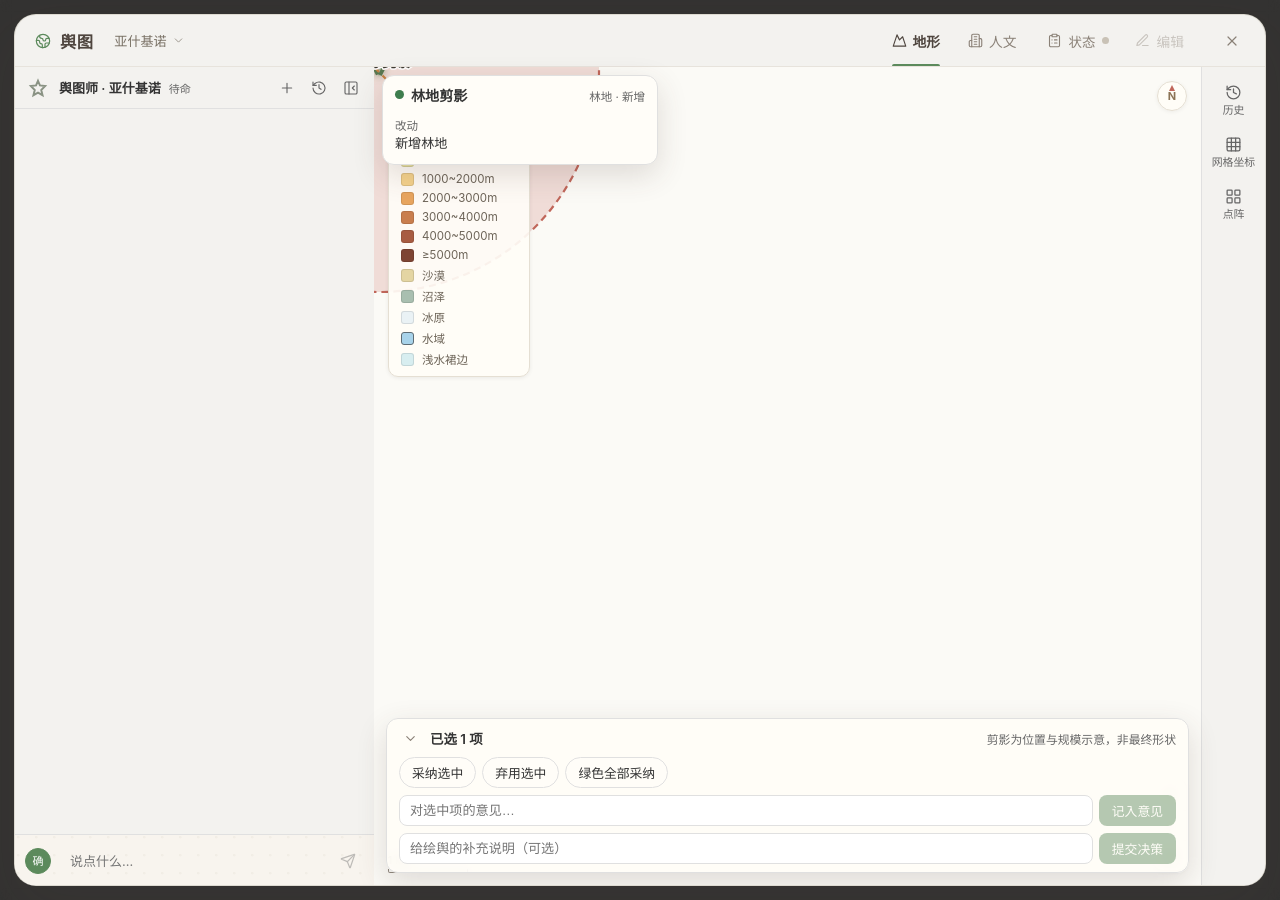
Test case: MapViewerDialog › 剪影锚定卡：网格开启且锚点可用时自动带一行格号；网格关闭时不显示该行
The image size is (1280, 900).
Expected: the element with class "map-viewer__sketch-pop-body" does not show "格位"
# 开启网格：REAL_BUNDLE 没有正式要素，使用空图 100km 初始观察窗。
Step 1. Click the button with class "map-viewer__status-toggle" showing "网格坐标" → click(1234, 152), box [1207,127,1260,177]
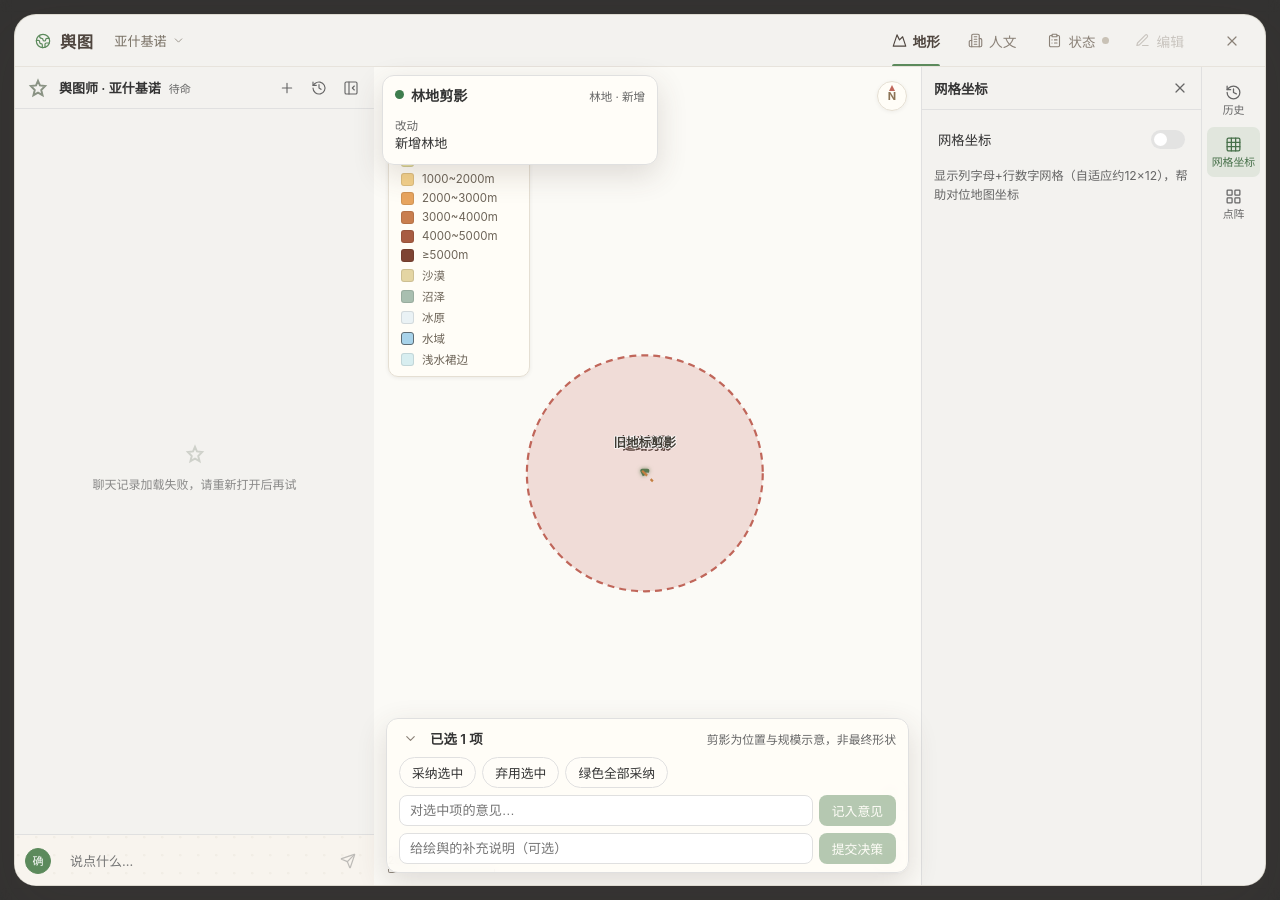
Step 2. Click the switch with class "map-viewer__grid-switch" → click(1062, 140), box [934,122,1189,157]
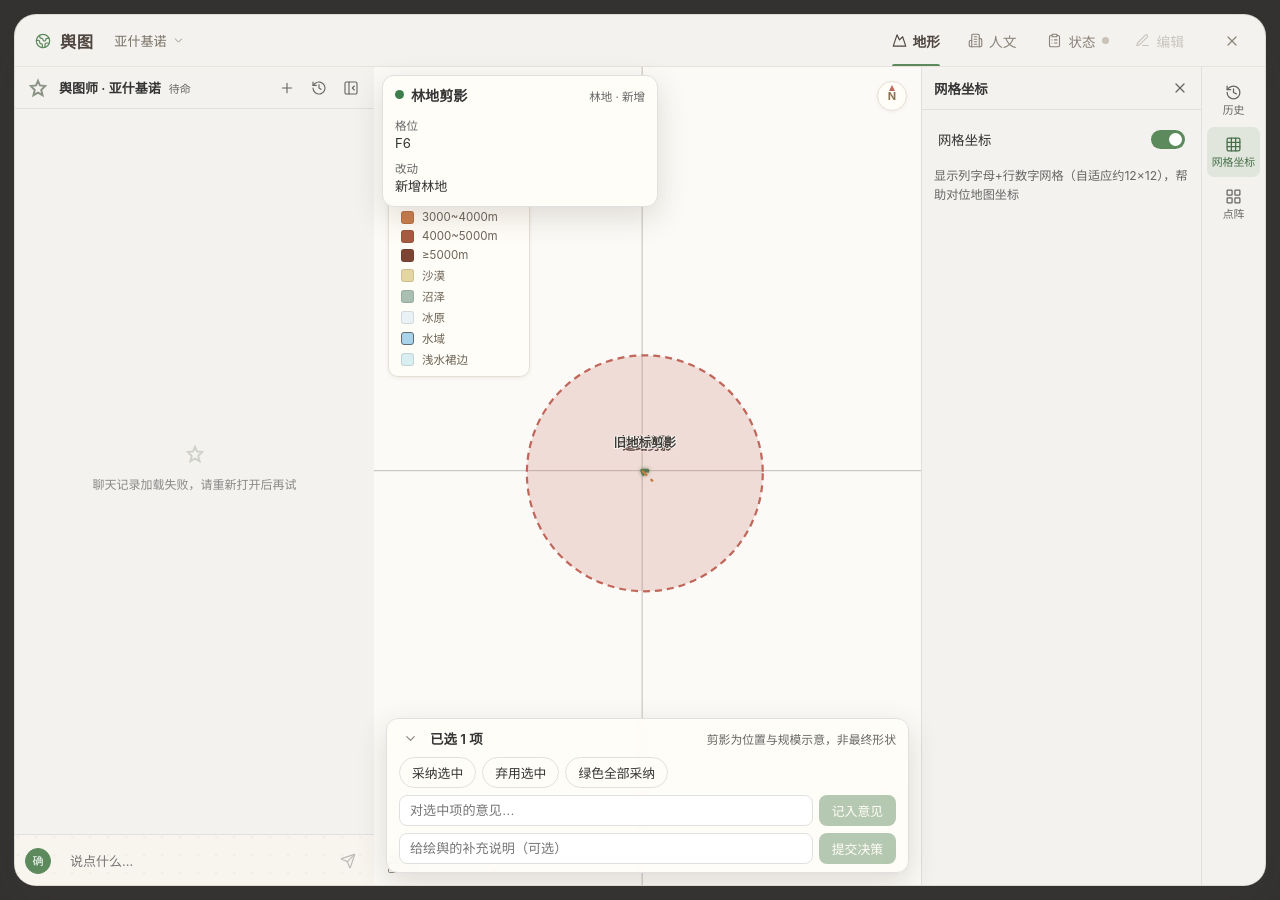
Result: the element with class "map-viewer__sketch-pop-body" shows "格位" at [395,119,418,133]
Result: the element with class "map-viewer__sketch-pop-body" shows "F6" at [395,135,411,151]
